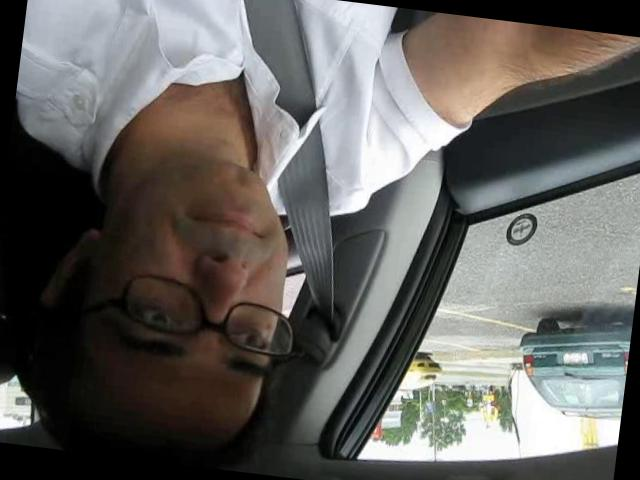eye_open: (116, 283, 200, 340), (218, 310, 278, 360)
face: (78, 154, 305, 406)
